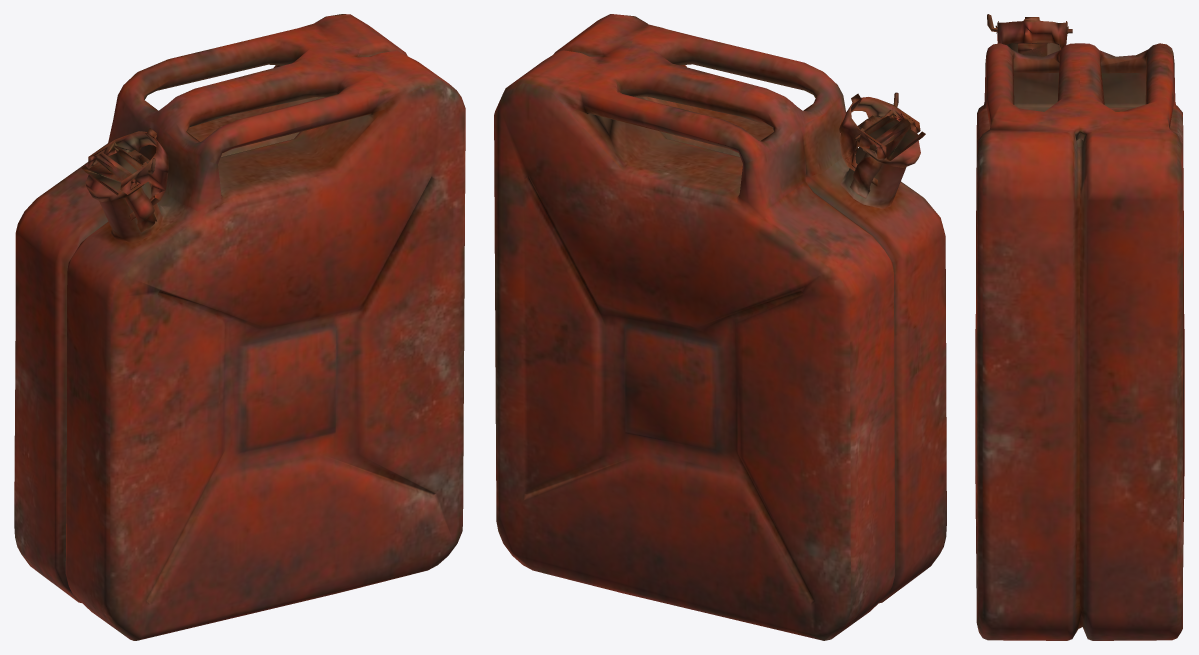
Rendered from metal_jerrycan.glb.
3 views of the same model, side by side, from view 1: azimuth 30°, elevation 25°; view 2: azimuth 150°, elevation 25°; view 3: azimuth 270°, elevation 25° (orthographic). The views are drawn at different scales.
Parts seen in each view (by area): view 1: metal_jerrycan; view 2: metal_jerrycan; view 3: metal_jerrycan.
Boxes of the visible parts, left/top/right/bottom form: metal_jerrycan: left=14, top=14, right=465, bottom=640; metal_jerrycan: left=494, top=14, right=946, bottom=640; metal_jerrycan: left=975, top=14, right=1184, bottom=640.
Size of the model in its own units: 0.3489 by 0.4548 by 0.1717.
1 material, 1 textured.
